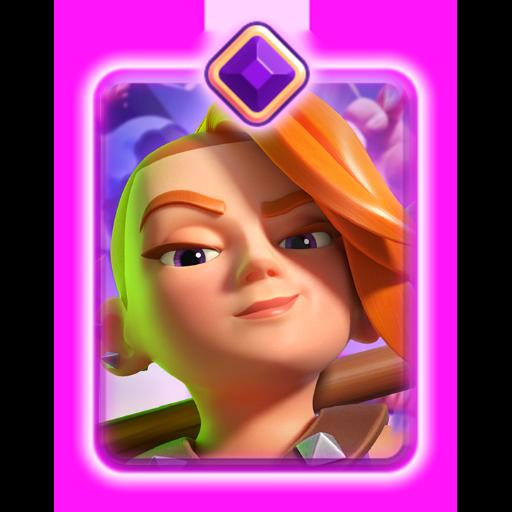valkyrie-evo: (102, 78, 408, 462)
